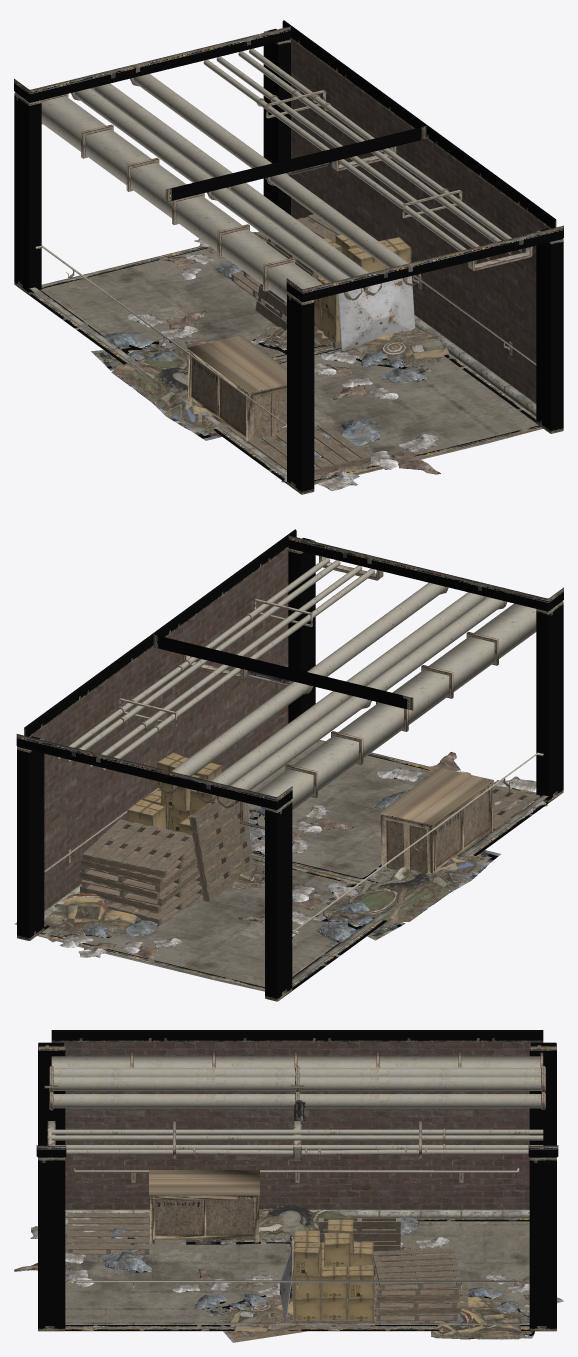
Rendered from link-straight-a-9m.glb.
3 views of the same model, one above another, from view 1: azimuth 30°, elevation 25°; view 2: azimuth 150°, elevation 25°; view 3: azimuth 270°, elevation 25° (orthographic). The views are drawn at different scales.
Parts seen in each view (by area): view 1: corridor_straight_a_9m_LOD0, wooden_crate_c, junk_pile_straight_b, scientist_cover_c_LOD0, junk_pile_Lshape_c, ground_cloth_a (1), pallet_stacks_c (1), pallet_boxes_b_LOD0, ground_cloth_a, ground_cloth_a (2), pallet_stacks_c (2), ground_cloth_a (3) (+1 smaller); view 2: corridor_straight_a_9m_LOD0, wooden_crate_c, pallet_stacks_b_LOD0, junk_pile_straight_b, pallet_stacks_c (2), pallet_boxes_b_LOD0, junk_pile_Lshape_a, ground_cloth_a (2), ground_cloth_a (3), ground_cloth_a (1), ground_cloth_a, pallet_stacks_c (1) (+2 smaller); view 3: corridor_straight_a_9m_LOD0, wooden_crate_c, pallet_boxes_b_LOD0, pallet_stacks_b_LOD0, pallet_stacks_c (1), junk_pile_Lshape_a, junk_pile_Lshape_c, junk_pile_straight_b, ground_cloth_a (1), pallet_stacks_c (2), ground_cloth_a, ground_cloth_a (3) (+3 smaller).
Part boxes in pixels (bbox=[...]): corridor_straight_a_9m_LOD0: bbox=[14, 20, 563, 494]; wooden_crate_c: bbox=[187, 335, 286, 441]; junk_pile_straight_b: bbox=[91, 338, 227, 440]; scientist_cover_c_LOD0: bbox=[337, 276, 415, 351]; junk_pile_Lshape_c: bbox=[251, 324, 449, 375]; ground_cloth_a (1): bbox=[274, 417, 440, 490]; pallet_stacks_c (1): bbox=[247, 423, 370, 475]; pallet_boxes_b_LOD0: bbox=[314, 234, 411, 348]; ground_cloth_a: bbox=[314, 350, 427, 400]; ground_cloth_a (2): bbox=[97, 311, 215, 361]; pallet_stacks_c (2): bbox=[255, 238, 318, 330]; ground_cloth_a (3): bbox=[156, 238, 242, 279]; corridor_straight_a_9m_LOD0: bbox=[16, 529, 563, 1001]; wooden_crate_c: bbox=[379, 768, 494, 873]; pallet_stacks_b_LOD0: bbox=[79, 819, 200, 913]; junk_pile_straight_b: bbox=[313, 850, 500, 940]; pallet_stacks_c (2): bbox=[189, 796, 254, 901]; pallet_boxes_b_LOD0: bbox=[127, 752, 248, 885]; junk_pile_Lshape_a: bbox=[14, 892, 141, 942]; ground_cloth_a (2): bbox=[237, 882, 372, 942]; ground_cloth_a (3): bbox=[60, 920, 182, 962]; ground_cloth_a (1): bbox=[375, 752, 547, 812]; ground_cloth_a: bbox=[249, 805, 353, 854]; pallet_stacks_c (1): bbox=[492, 785, 539, 830]; corridor_straight_a_9m_LOD0: bbox=[36, 1030, 558, 1331]; wooden_crate_c: bbox=[149, 1170, 259, 1243]; pallet_boxes_b_LOD0: bbox=[292, 1219, 374, 1326]; pallet_stacks_b_LOD0: bbox=[373, 1248, 461, 1321]; pallet_stacks_c (1): bbox=[67, 1213, 149, 1254]; junk_pile_Lshape_a: bbox=[431, 1295, 534, 1339]; junk_pile_Lshape_c: bbox=[204, 1294, 385, 1342]; junk_pile_straight_b: bbox=[181, 1204, 381, 1244]; ground_cloth_a (1): bbox=[14, 1217, 152, 1287]; pallet_stacks_c (2): bbox=[318, 1218, 400, 1276]; ground_cloth_a: bbox=[171, 1269, 279, 1309]; ground_cloth_a (3): bbox=[468, 1274, 563, 1313].
Size of the model in its own units: 5.88 by 3.78 by 10.06.
Materials: 13 (13 with a texture image).
